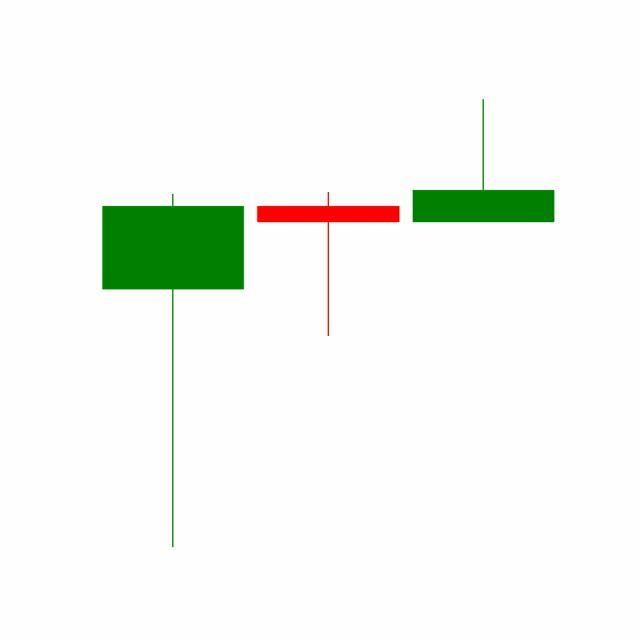Dragonfly Doji: (250, 191, 407, 339)
